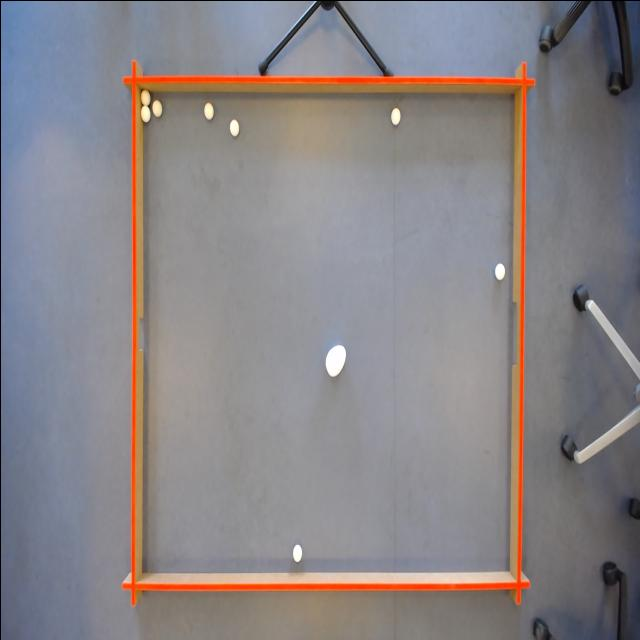egg: (324, 340, 346, 380)
white_ball: (289, 539, 303, 563), (388, 105, 401, 126), (202, 98, 214, 120), (492, 260, 504, 282), (151, 99, 163, 119), (138, 86, 150, 106), (228, 116, 239, 137), (140, 104, 150, 122)
